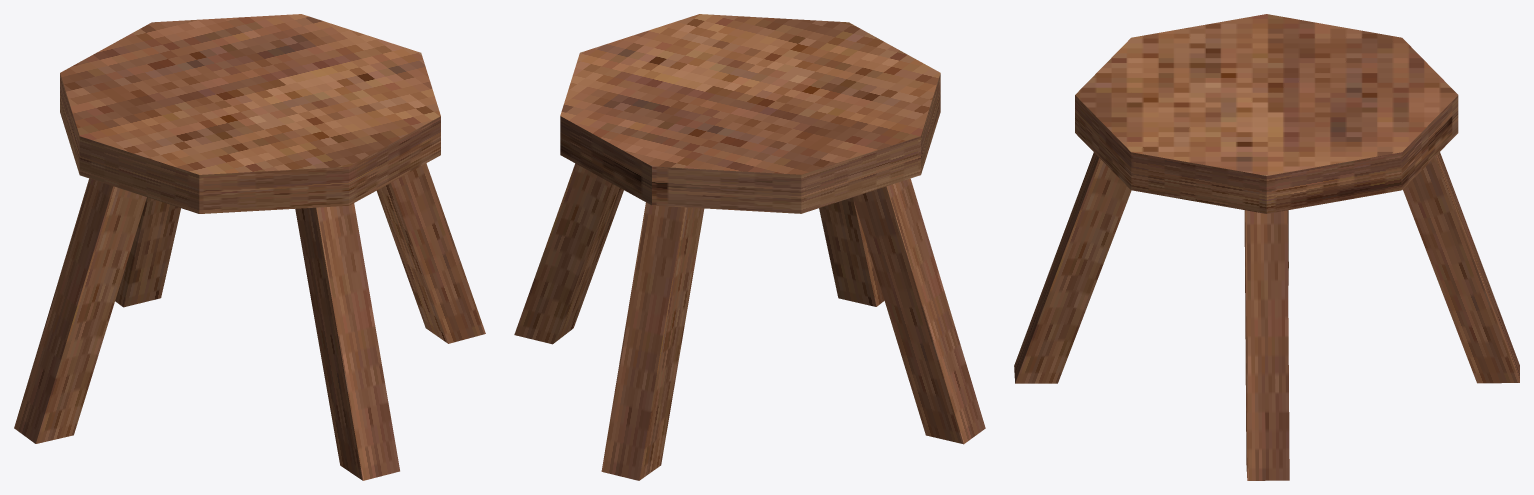
3 renders of one model, left to right at view 1: azimuth 30°, elevation 25°; view 2: azimuth 150°, elevation 25°; view 3: azimuth 270°, elevation 25°, orthographic. The views are drawn at different scales.
Parts seen in each view (by area): view 1: PSXWoodenStool_0; view 2: PSXWoodenStool_0; view 3: PSXWoodenStool_0.
Part boxes in pixels (bbox=[...]): PSXWoodenStool_0: bbox=[14, 14, 485, 480]; PSXWoodenStool_0: bbox=[514, 14, 985, 480]; PSXWoodenStool_0: bbox=[1014, 14, 1519, 480].
Size of the model in its own units: 0.4975 by 0.3034 by 0.4975.
Materials: 5 (5 with a texture image).
